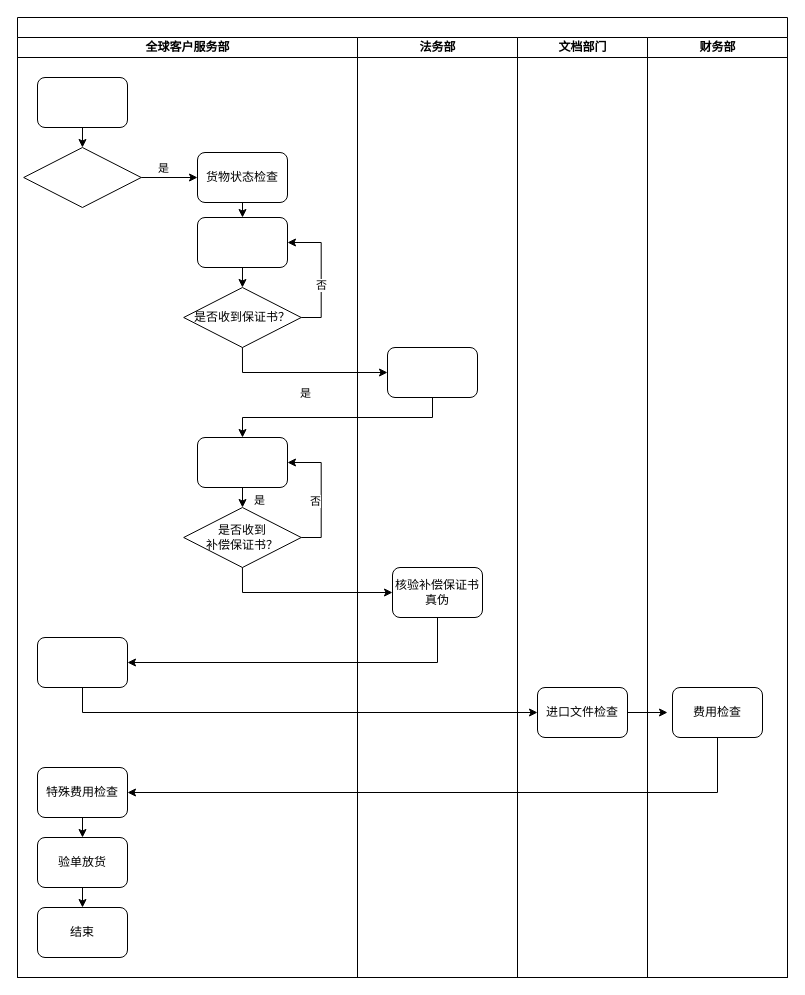
This 805x995 diagram has some shape labels left out. The centre of each missing label's shape, as x and y in pixels:
"处理提单 提货请求" goes at (x=82, y=102).
"是否丢失提单？" goes at (x=82, y=177).
"核验保证书真伪" goes at (x=432, y=372).
"清关检查" goes at (x=82, y=662).
"通知发货人写未拥有原始提单保证书" goes at (x=242, y=242).
"通知客户提供银行签字的损害补偿保证书" goes at (x=242, y=462).
